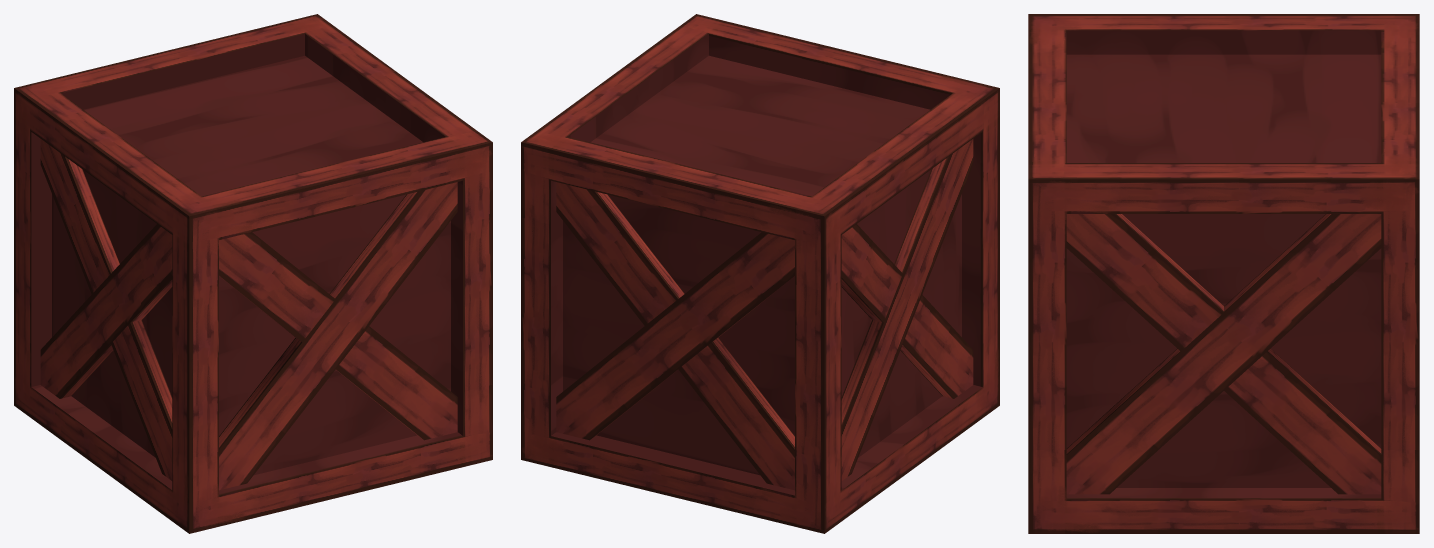
The model's file is lvl1_crate.fbx.
3 renders of one model, left to right at view 1: azimuth 30°, elevation 25°; view 2: azimuth 150°, elevation 25°; view 3: azimuth 270°, elevation 25°, orthographic. The views are drawn at different scales.
Visible parts, largest first — view 1: crate; view 2: crate; view 3: crate.
Boxes of the visible parts, x1,y1,x2,y2 form: crate: (14,14,492,533); crate: (521,14,999,533); crate: (1028,14,1419,533).
Size of the model in its own units: 100 by 100 by 100.
